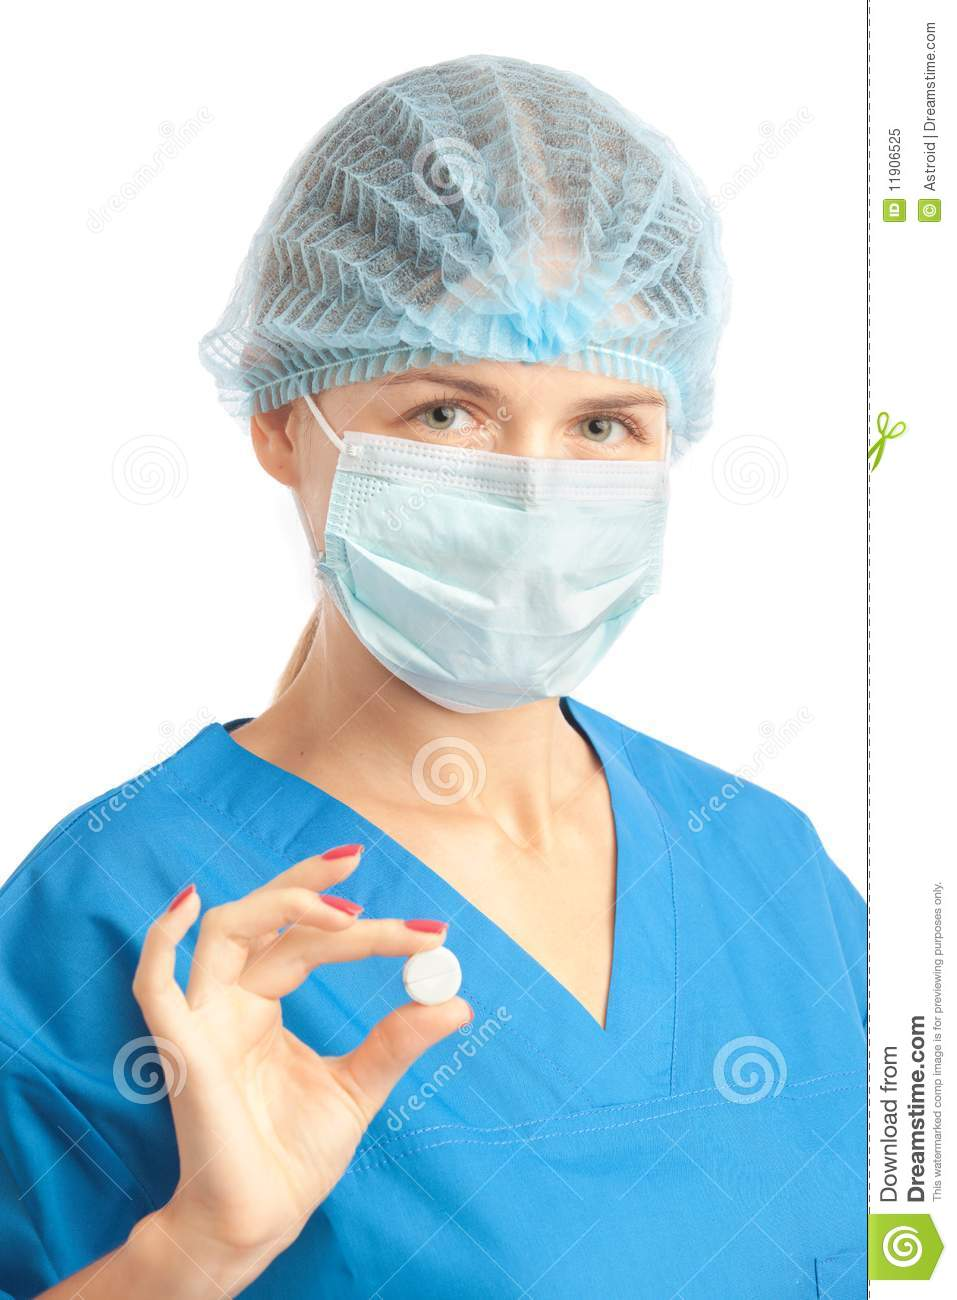mask: (324, 429, 675, 721)
